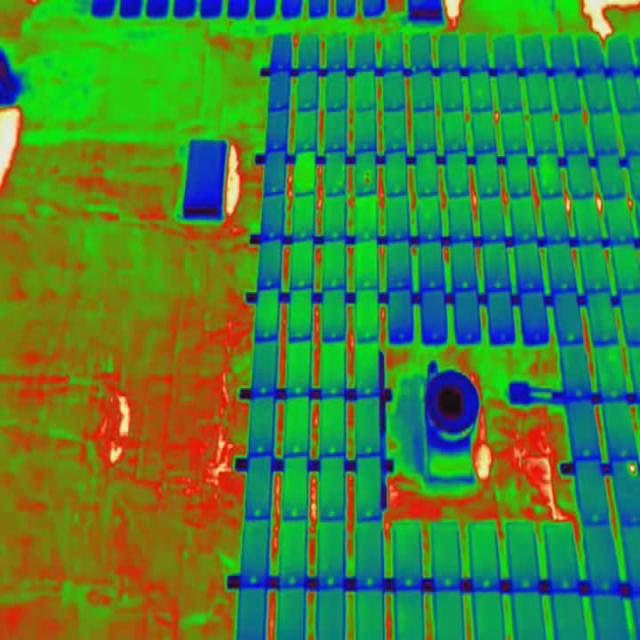Orange-Spots: (365, 171, 371, 188)
